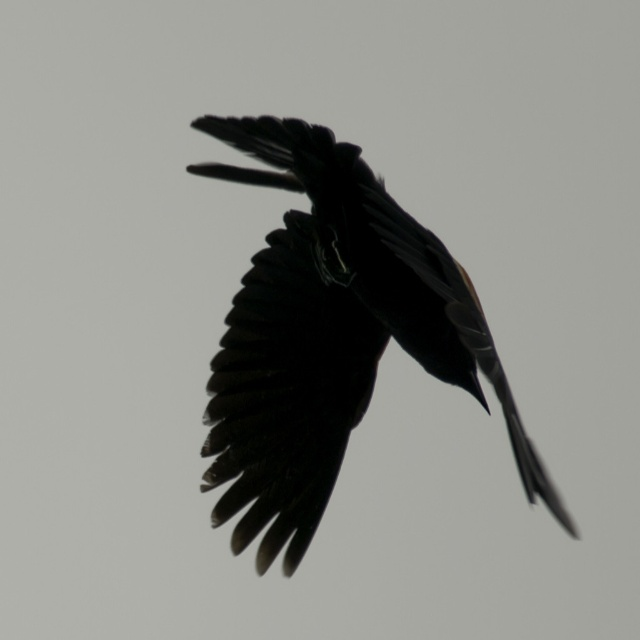Raven: (185, 113, 580, 578)
